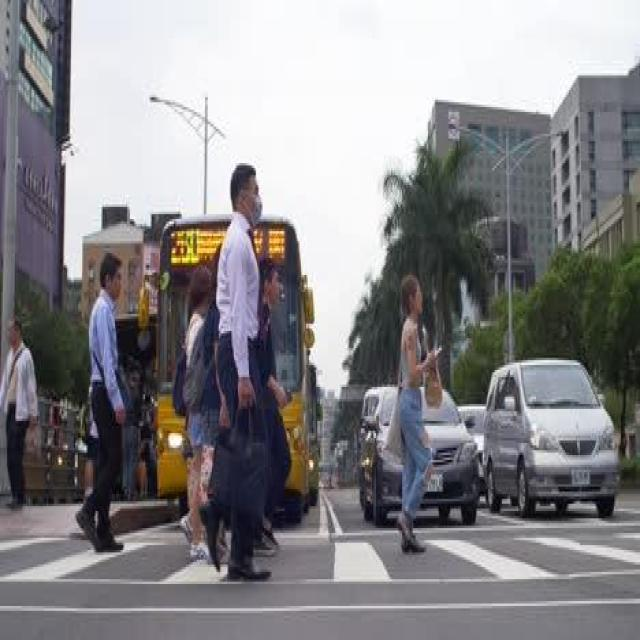person: (216, 156, 274, 586), (72, 250, 132, 558), (391, 272, 438, 558), (176, 266, 215, 558), (260, 254, 292, 542), (0, 310, 40, 520)
